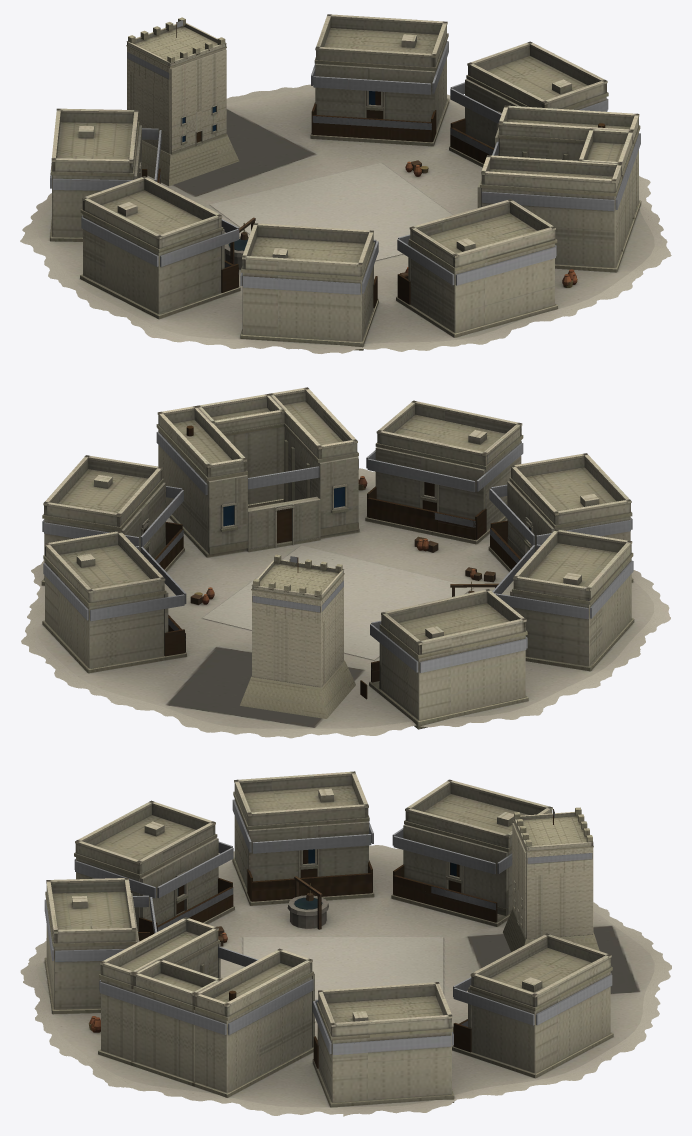
The model's file is classical-town-small-b-israelite-41576626.glb.
3 views of the same model, one above another, from view 1: azimuth 30°, elevation 25°; view 2: azimuth 150°, elevation 25°; view 3: azimuth 270°, elevation 25° (orthographic).
Visible parts, largest first — view 1: LOD0; view 2: LOD0; view 3: LOD0.
Boxes of the visible parts, box(x1,y1,x2,y2) form: LOD0: box(20, 14, 671, 353); LOD0: box(21, 387, 670, 738); LOD0: box(20, 771, 671, 1116).
Size of what is drawn, in the model's own units: 3.95 by 0.95 by 3.98.
Materials: 3 (3 with a texture image).
